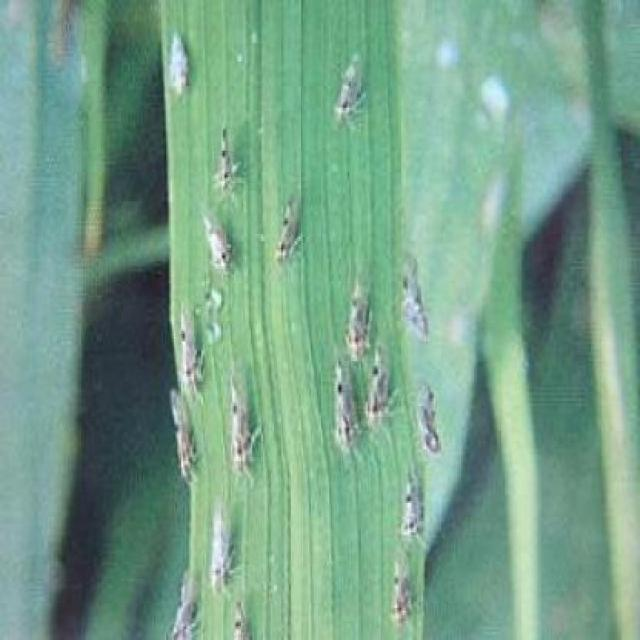brown-planthopper: (162, 400, 198, 480), (276, 188, 310, 268), (334, 55, 368, 134), (409, 377, 442, 458), (231, 371, 255, 480), (334, 368, 360, 462), (208, 505, 235, 592), (177, 298, 200, 396), (197, 208, 232, 272), (365, 358, 392, 438), (345, 275, 369, 360), (212, 129, 238, 203), (391, 550, 414, 624), (166, 34, 191, 98), (402, 475, 422, 543)
